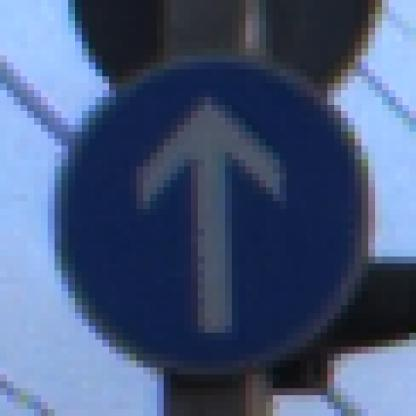AheadOnly: (42, 43, 383, 382)
